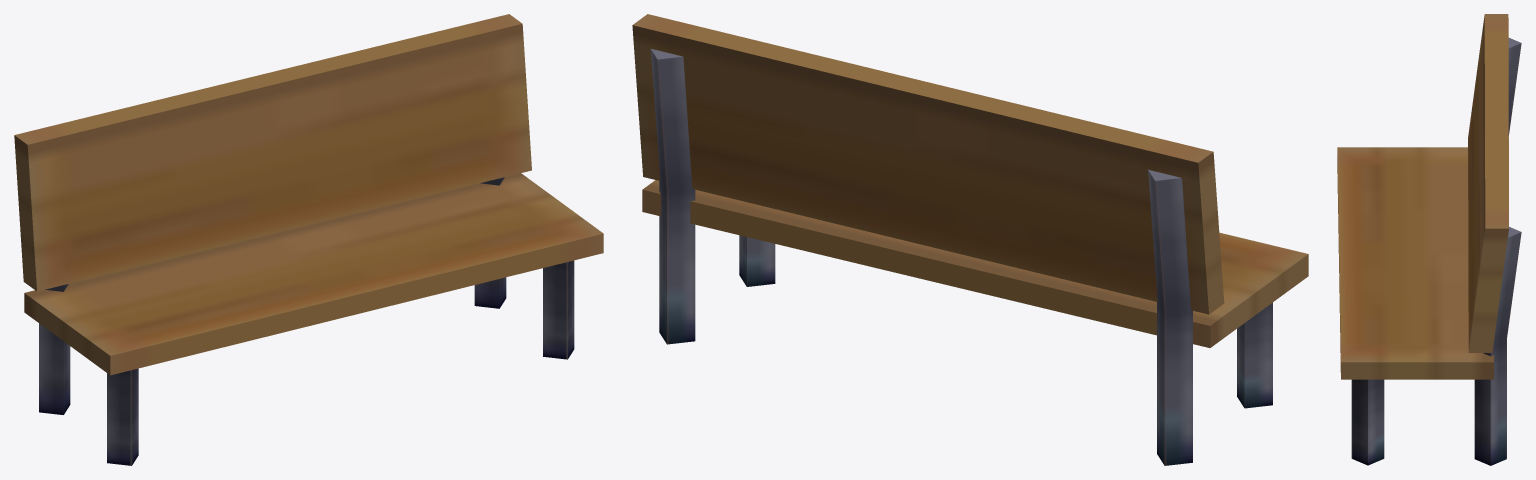
The model's file is 0168_T_ZhenYin_MuYi01.glb.
3 renders of one model, left to right at view 1: azimuth 30°, elevation 25°; view 2: azimuth 150°, elevation 25°; view 3: azimuth 270°, elevation 25°, orthographic. The views are drawn at different scales.
Bounding box in the file's own units: 2.2 × 1.16 × 0.7976.
Materials: 1 (1 with a texture image).
